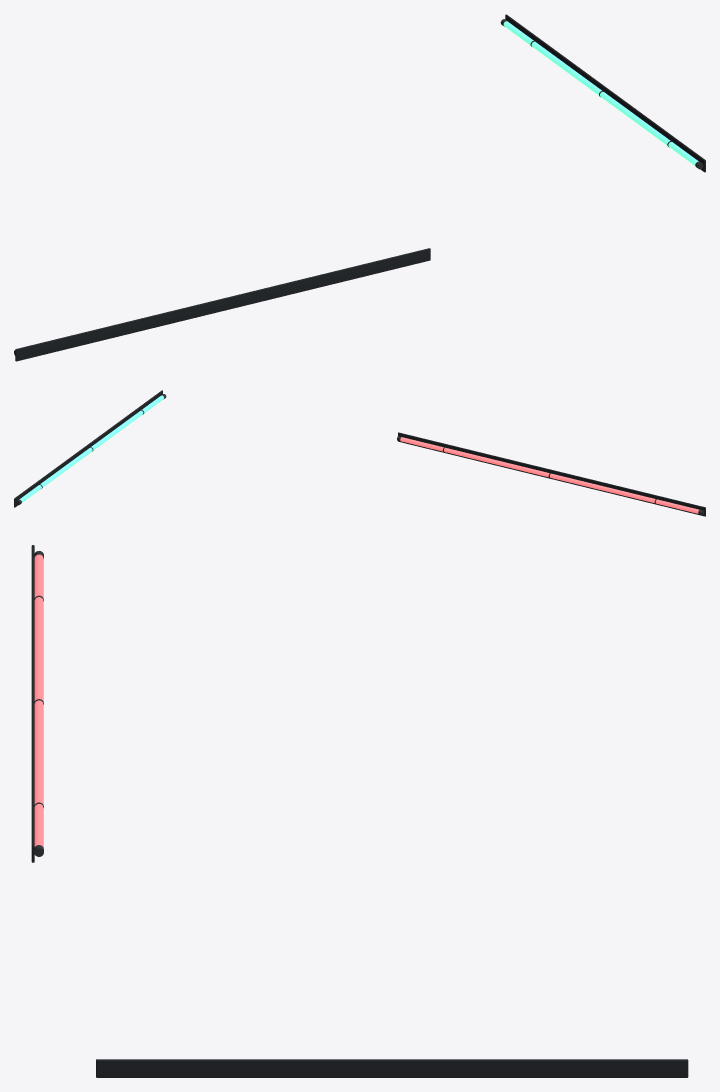
The model's file is neons_salao_realistas.glb.
3 views of the same model, one above another, from view 1: azimuth 30°, elevation 25°; view 2: azimuth 150°, elevation 25°; view 3: azimuth 270°, elevation 25° (orthographic). The views are drawn at different scales.
Visible parts, largest first — view 1: Canaleta traseira Vermelho, Difusor luminoso Verde, Canaleta traseira Verde; view 2: Canaleta traseira Vermelho, Difusor luminoso Vermelho, Difusor luminoso Verde, Canaleta traseira Verde; view 3: Canaleta traseira Verde, Difusor luminoso Vermelho, Canaleta traseira Vermelho.
Boxes of the visible parts, left/top/right/bottom form: Canaleta traseira Vermelho: left=15, top=248, right=430, bottom=361; Difusor luminoso Verde: left=503, top=21, right=698, bottom=165; Canaleta traseira Verde: left=505, top=14, right=705, bottom=172; Canaleta traseira Vermelho: left=398, top=432, right=705, bottom=516; Difusor luminoso Vermelho: left=400, top=437, right=698, bottom=513; Difusor luminoso Verde: left=19, top=395, right=163, bottom=502; Canaleta traseira Verde: left=14, top=390, right=162, bottom=507; Canaleta traseira Verde: left=96, top=1059, right=688, bottom=1077; Difusor luminoso Vermelho: left=34, top=554, right=43, bottom=846; Canaleta traseira Vermelho: left=31, top=545, right=34, bottom=862.
Size of the model in its own units: 4.12 by 0.067 by 2.22.
